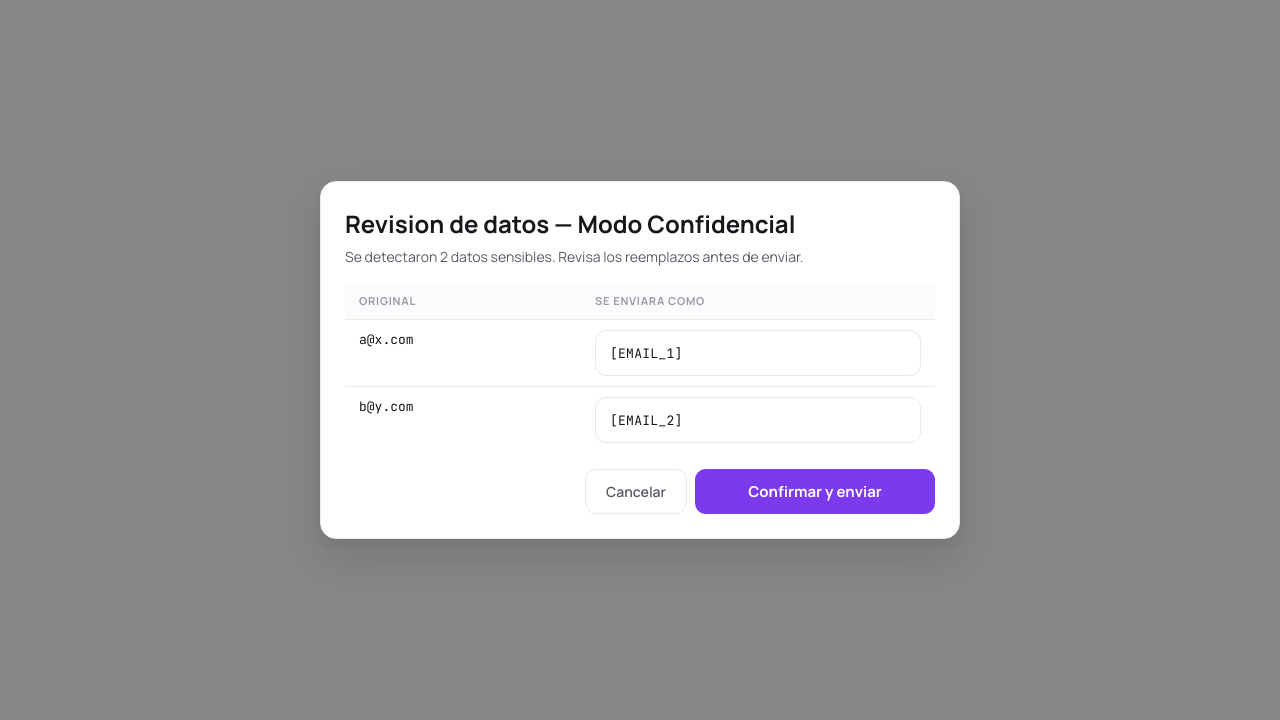
AnonymizerReview — validacion de renames › un rename que repite otra clave marca ambas filas
Replace the text in the field in the row of "a@x.com" with "[EMAIL_2]" at (758, 353), box [595,330,921,376]
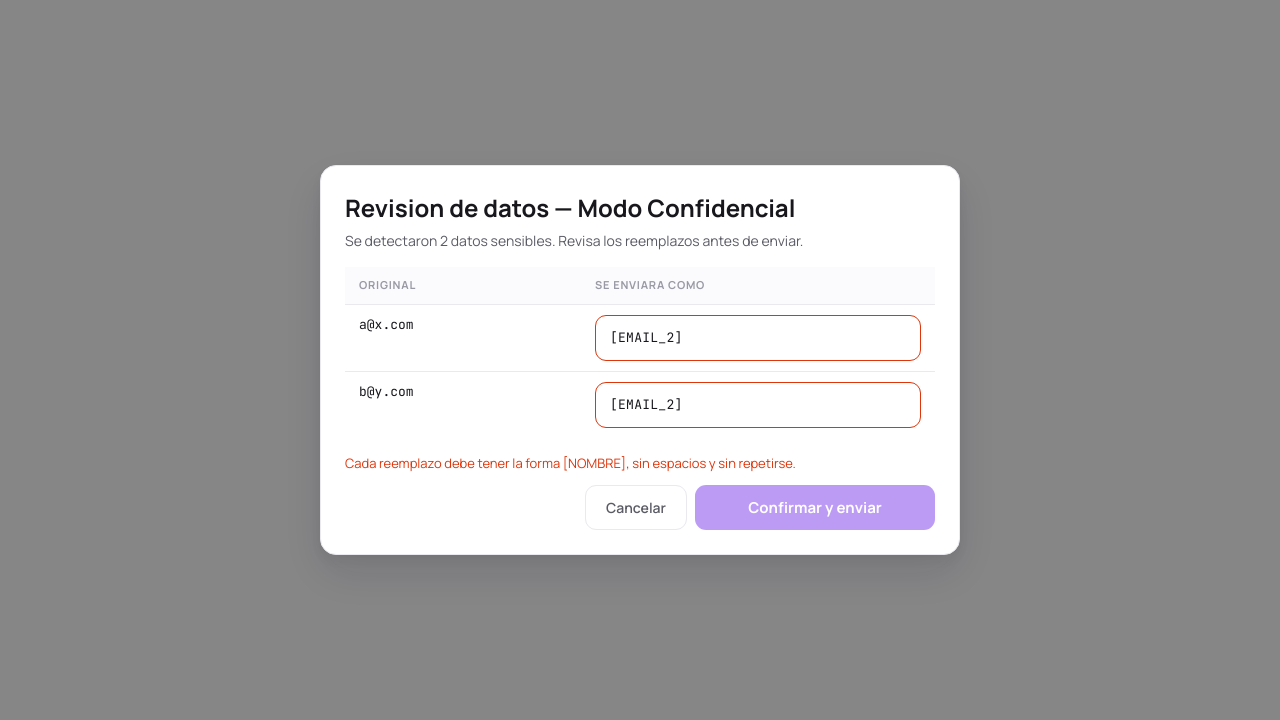
Check: the button "Confirmar y enviar" is disabled, box [695,485,935,530]
